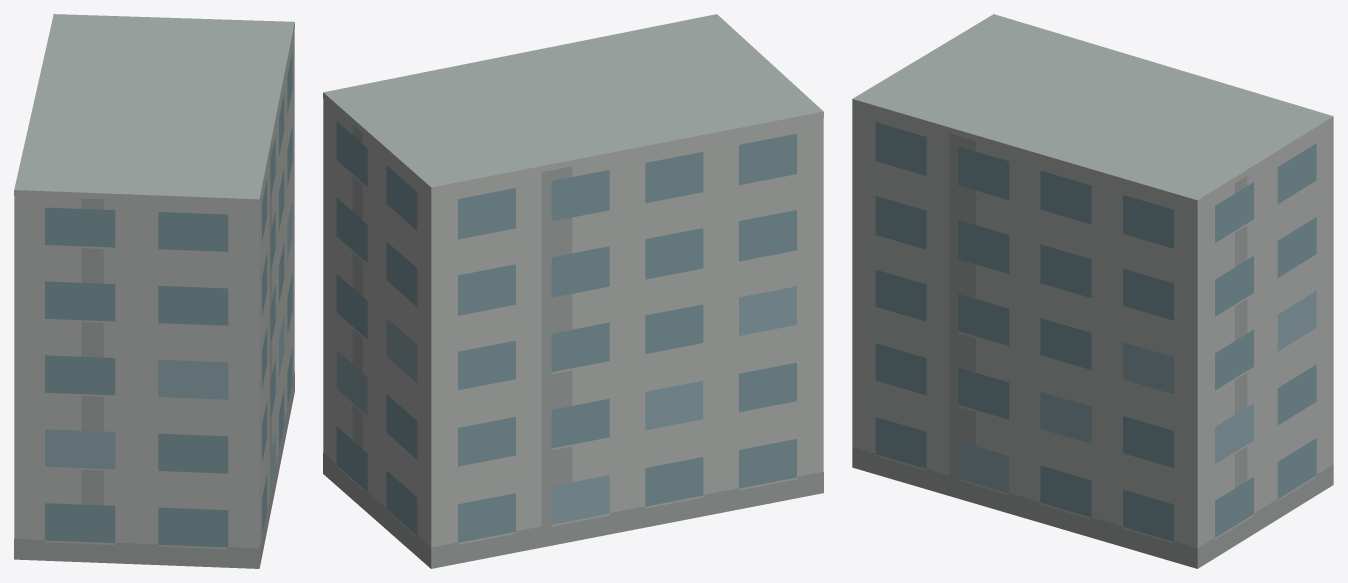
Rendered from survey-upis-32817119.glb.
The picture shows the model from 3 angles, left to right: view 1: azimuth 30°, elevation 25°; view 2: azimuth 150°, elevation 25°; view 3: azimuth 270°, elevation 25°; orthographic projection. The views are drawn at different scales.
Visible parts, largest first — view 1: survey-upis-32817119.tmp; view 2: survey-upis-32817119.tmp; view 3: survey-upis-32817119.tmp.
Part boxes in pixels (x1,y1,x2,y2): survey-upis-32817119.tmp: (14, 14, 294, 568); survey-upis-32817119.tmp: (323, 14, 823, 568); survey-upis-32817119.tmp: (852, 14, 1333, 568).
Bounding box in the file's own units: 16.27 × 15 × 17.76.
